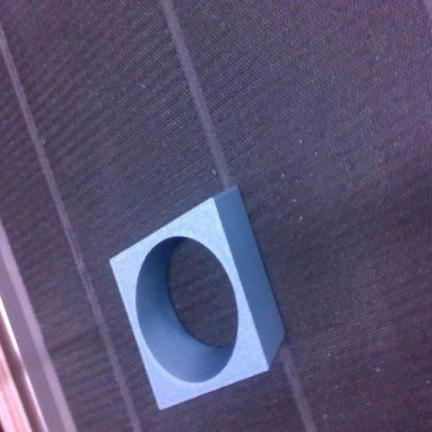square: (111, 188, 284, 409)
